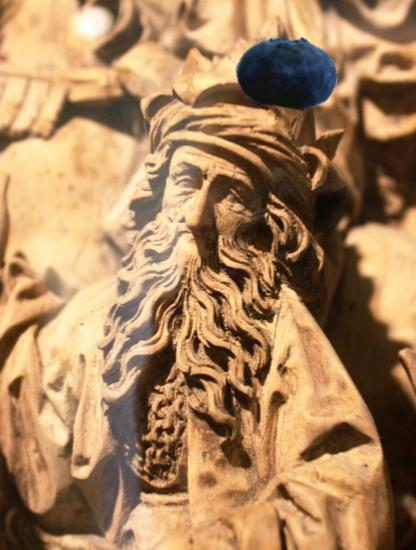Blueberry: (236, 21, 339, 124)
